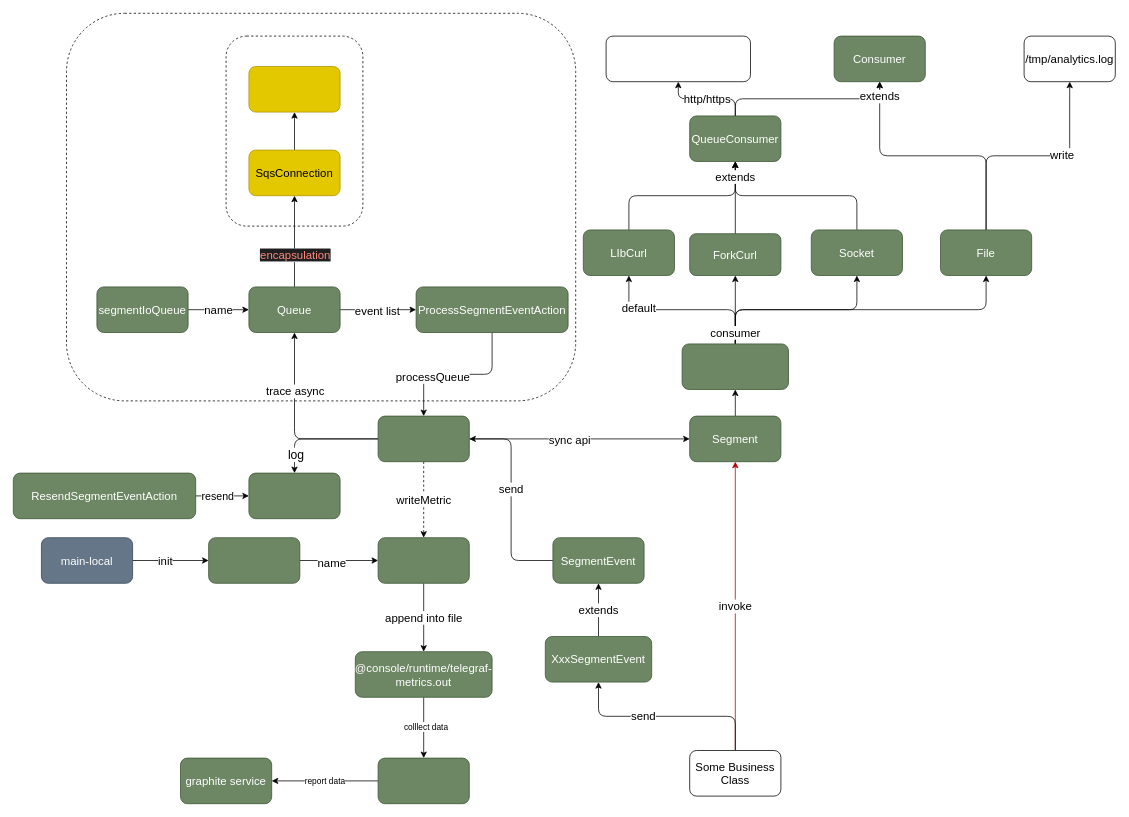
This 1129x817 diagram has some shape labels left out. The box of each missing label's shape, as (x1, y1, x2, y2) in pixels:
api.segement.io/v1/import: (605, 35, 750, 82)
AWS SDK: (225, 35, 363, 226)
Aysnc Event Queue: (66, 13, 576, 401)
ClickHouse: (248, 472, 340, 519)
Metrics: (377, 537, 469, 583)
metricsV2: (208, 537, 300, 583)
SegmentEventClient: (681, 343, 788, 390)
SegmentIO: (377, 415, 469, 462)
SqsClient: (248, 66, 340, 112)
telegraf: (377, 757, 469, 804)
